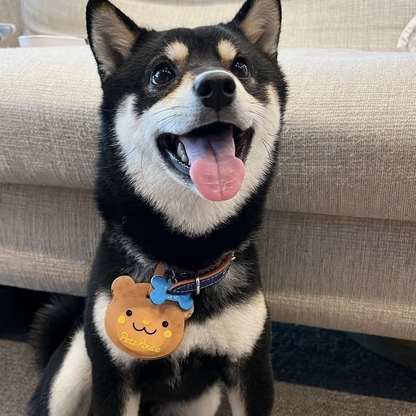shiba: (21, 1, 304, 416)
